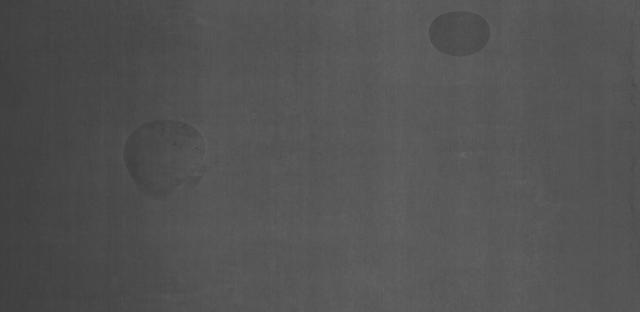oil_spot: (118, 113, 210, 211), (425, 9, 493, 66)
